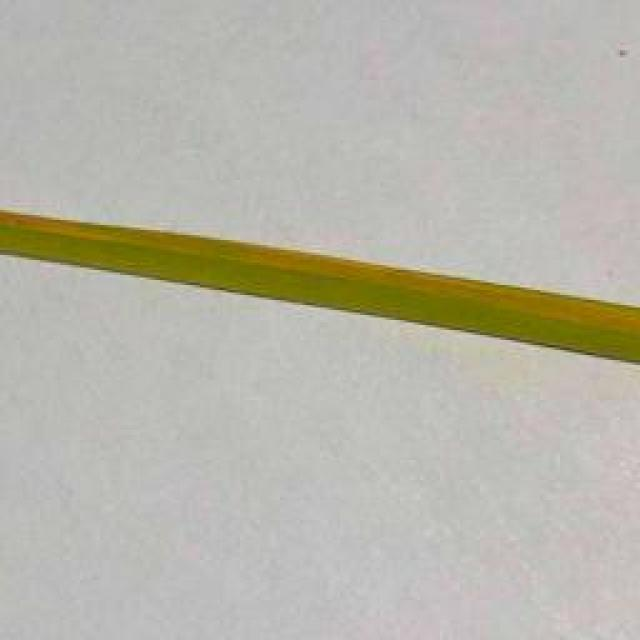Bacterial_Blight: (0, 202, 586, 304)
